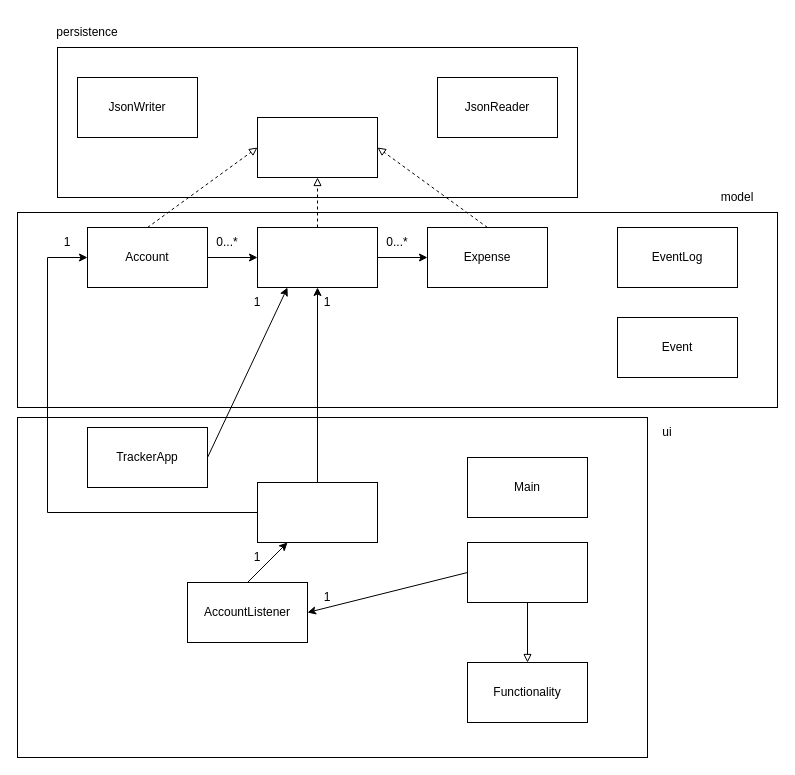
This 795x775 diagram has some shape labels left out. The box of each missing label's shape, as (x1, y1, x2, y2) in pixels:
<<interface>> Writable: (256, 116, 378, 178)
Budget: (256, 226, 378, 288)
StartScreenGUI: (466, 542, 588, 602)
TrackerAppGUI: (256, 482, 378, 542)
